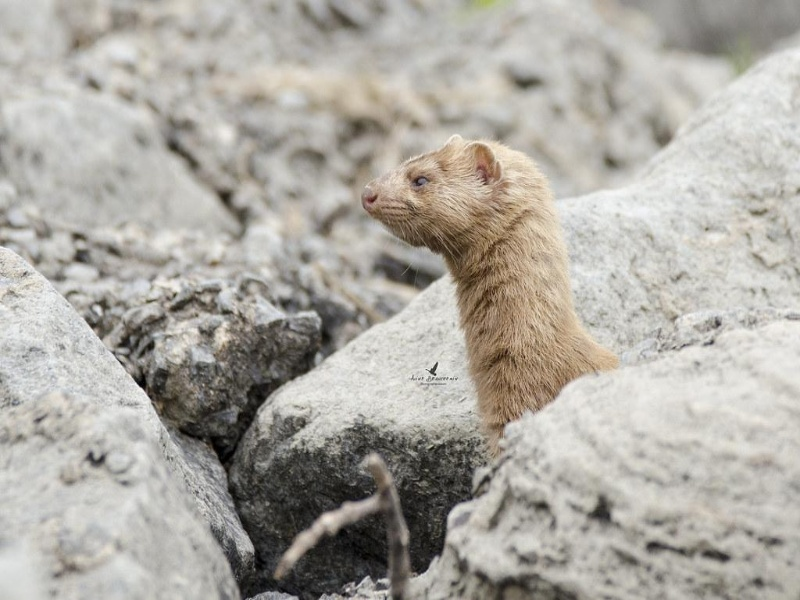minkish: (357, 131, 631, 460)
